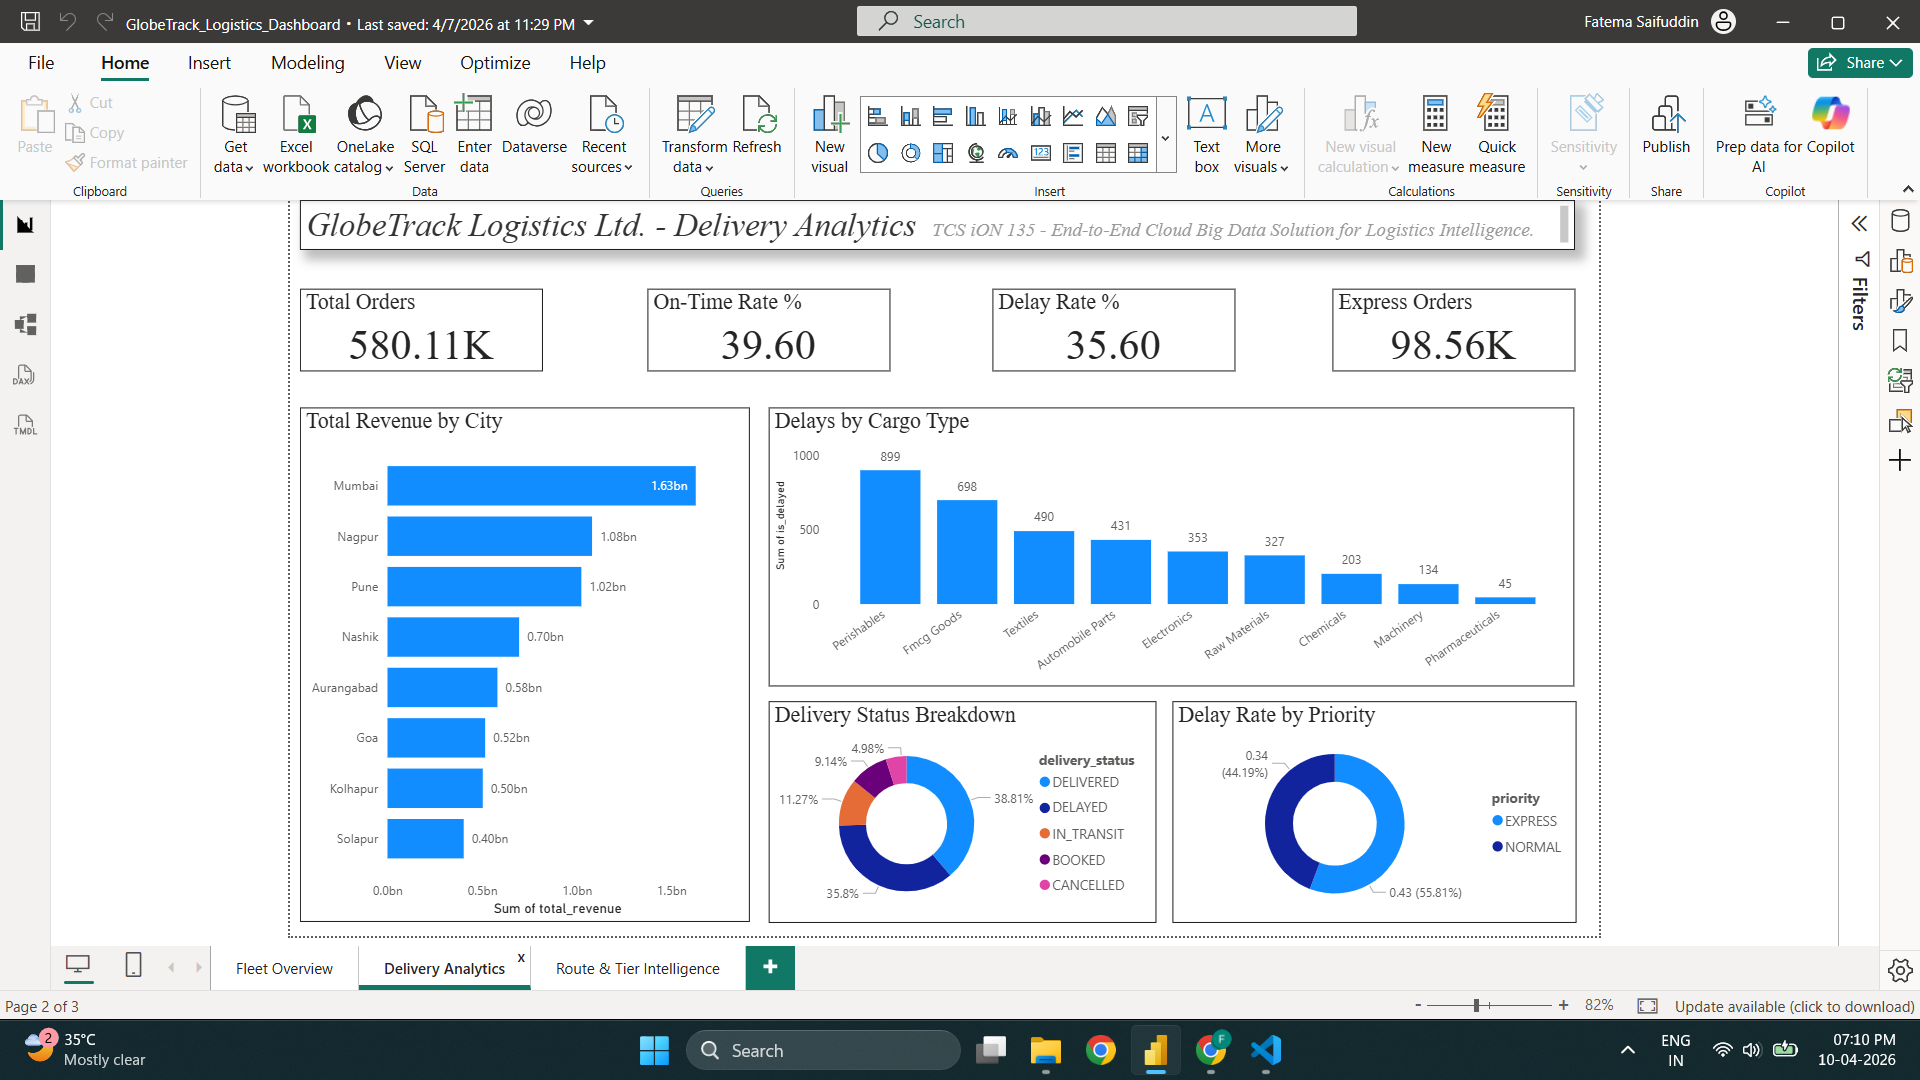

The dashboard page shown, as its layout file describes it:
{"tool":"powerbi","page":{"name":"Delivery Analytics","canvas":[1280,720],"ordinal":1},"visuals":[{"type":"textbox","box":[9.8,0,1247.3,48.9],"z":0},{"type":"card","title":"Total Orders","fields":{"Values":["Avg(kpi_summary.Value)"]},"box":[9.8,86.8,237.2,80.7],"z":1000},{"type":"card","title":"On-Time Rate %","fields":{"Values":["Avg(kpi_summary.Value)"]},"box":[349.7,86.8,237.2,80.7],"z":2000},{"type":"card","title":"Delay Rate %","fields":{"Values":["Avg(kpi_summary.Value)"]},"box":[687.2,86.8,237.2,80.7],"z":3000},{"type":"card","title":"Express Orders","fields":{"Values":["Avg(kpi_summary.Value)"]},"box":[1019.8,86.8,237.2,80.7],"z":4000},{"type":"donutChart","title":"Delivery Status Breakdown","fields":{"Category":["delivery_analytics.delivery_status"],"Y":["CountNonNull(delivery_analytics.booking_id)"]},"box":[468.9,490.5,379.4,216.4],"z":5000},{"type":"clusteredBarChart","title":"Total Revenue by City","fields":{"Category":["route_analysis.origin_city"],"Y":["Sum(route_analysis.total_revenue)"]},"box":[10.1,203.4,440,503.5],"z":6000},{"type":"clusteredColumnChart","title":"Delays by Cargo Type","fields":{"Category":["delivery_analytics.cargo_type"],"Y":["Sum(delivery_analytics.is_delayed)"]},"box":[468.9,203.4,787.7,272.7],"z":7000},{"type":"donutChart","title":"Delay Rate by Priority","fields":{"Category":["delivery_analytics.priority"],"Y":["Avg(delivery_analytics.is_delayed)"]},"box":[862.8,490.5,395.3,216.4],"z":8000}]}

Visuals, with their boxes on the page's 1280x720 design canvas (x1, y1, x2, y2). These are canvas units, not pixel positions in the 1920x1080 screenshot, which may show the page scaled, cropped or inside an application window:
textbox: select_region(10, 0, 1257, 49)
"Total Orders" card: select_region(10, 87, 247, 168)
"On-Time Rate %" card: select_region(350, 87, 587, 168)
"Delay Rate %" card: select_region(687, 87, 924, 168)
"Express Orders" card: select_region(1020, 87, 1257, 168)
"Delivery Status Breakdown" donutChart: select_region(469, 490, 848, 707)
"Total Revenue by City" clusteredBarChart: select_region(10, 203, 450, 707)
"Delays by Cargo Type" clusteredColumnChart: select_region(469, 203, 1257, 476)
"Delay Rate by Priority" donutChart: select_region(863, 490, 1258, 707)
